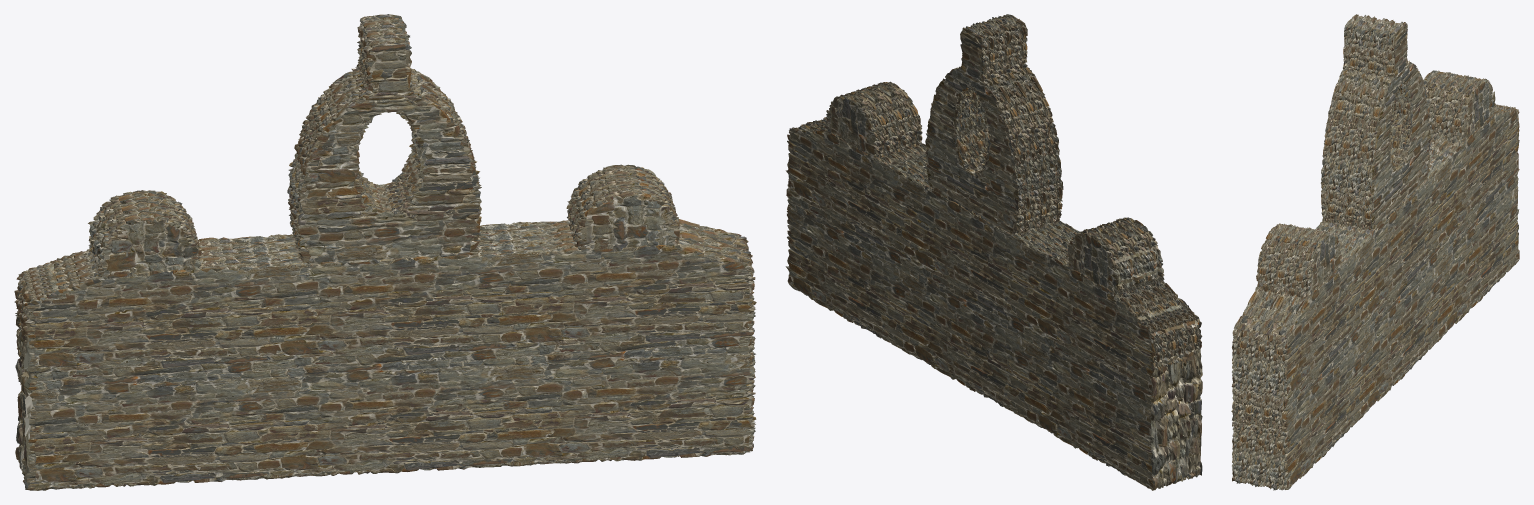
3 views of the same model, side by side, from view 1: azimuth 30°, elevation 25°; view 2: azimuth 150°, elevation 25°; view 3: azimuth 270°, elevation 25° (orthographic). The views are drawn at different scales.
Visible parts, largest first — view 1: Altar.003; view 2: Altar.003; view 3: Altar.003.
Boxes of the visible parts, x1,y1,x2,y2 form: Altar.003: (14, 14, 756, 490); Altar.003: (785, 14, 1202, 490); Altar.003: (1231, 14, 1519, 490).
Bounding box in the file's own units: 2.18 × 1.47 × 1.09.
Materials: 1 (1 with a texture image).
